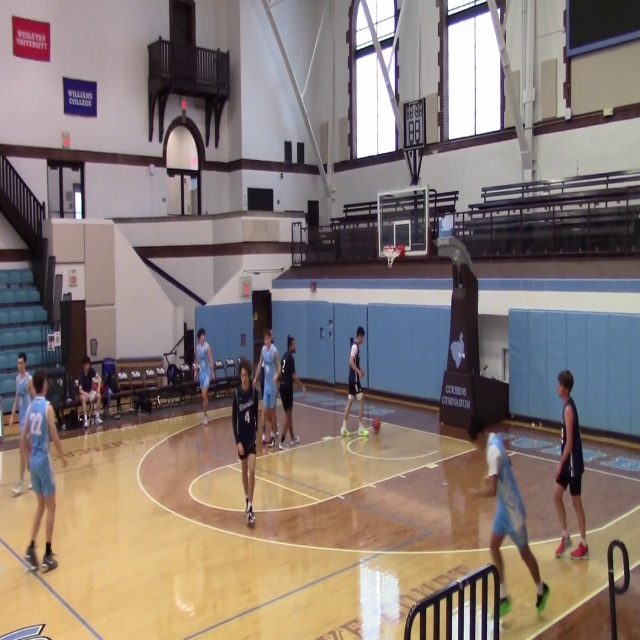Basketball: (360, 428, 369, 437), (372, 419, 380, 429)
